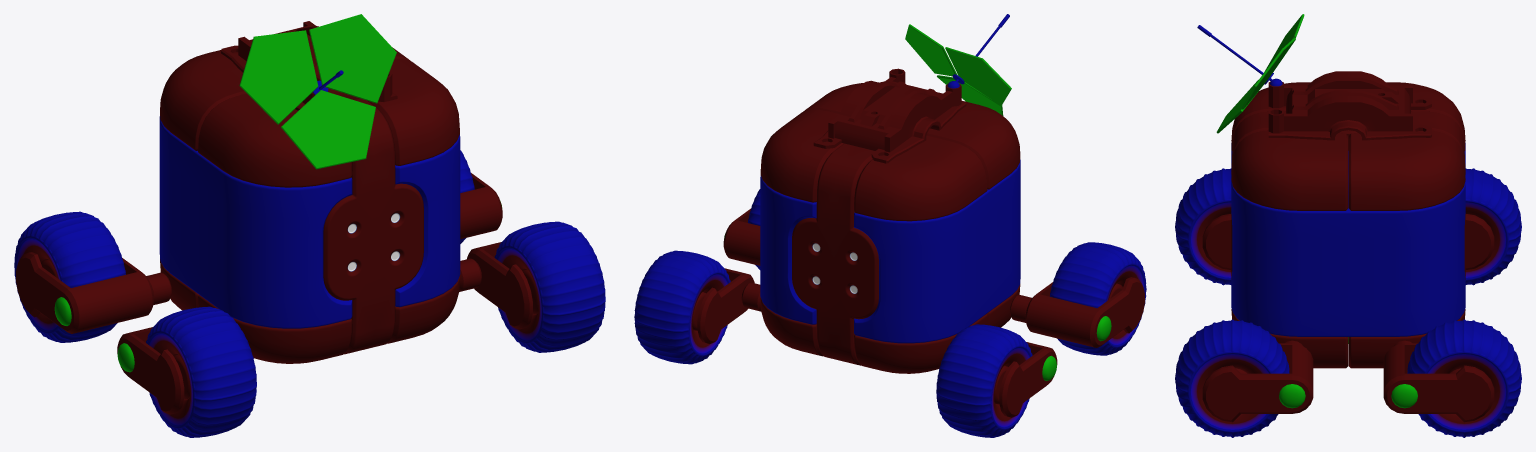
The model's file is MiniRover.fbx.
3 renders of one model, left to right at view 1: azimuth 30°, elevation 25°; view 2: azimuth 150°, elevation 25°; view 3: azimuth 270°, elevation 25°, orthographic. The views are drawn at different scales.
Visible parts, largest first — view 1: RoverBody, WheelFL, WheelFR, WheelBR; view 2: RoverBody, WheelBR, WheelBL, WheelFR; view 3: RoverBody, WheelFL, WheelBL, WheelBR, WheelFR.
Part boxes in pixels (x1,y1,x2,y2): RoverBody: [16, 14, 532, 414]; WheelFL: [494, 221, 605, 352]; WheelFR: [146, 306, 256, 437]; WheelBR: [14, 211, 125, 342]; RoverBody: [697, 14, 1144, 417]; WheelBR: [936, 324, 1032, 437]; WheelBL: [634, 250, 730, 364]; WheelFR: [1050, 242, 1146, 355]; RoverBody: [1197, 14, 1494, 422]; WheelFL: [1175, 319, 1289, 437]; WheelBL: [1407, 319, 1521, 437]; WheelBR: [1465, 168, 1521, 285]; WheelFR: [1175, 168, 1231, 285].
Size of the model in its own units: 1.96 by 1.49 by 1.5.
